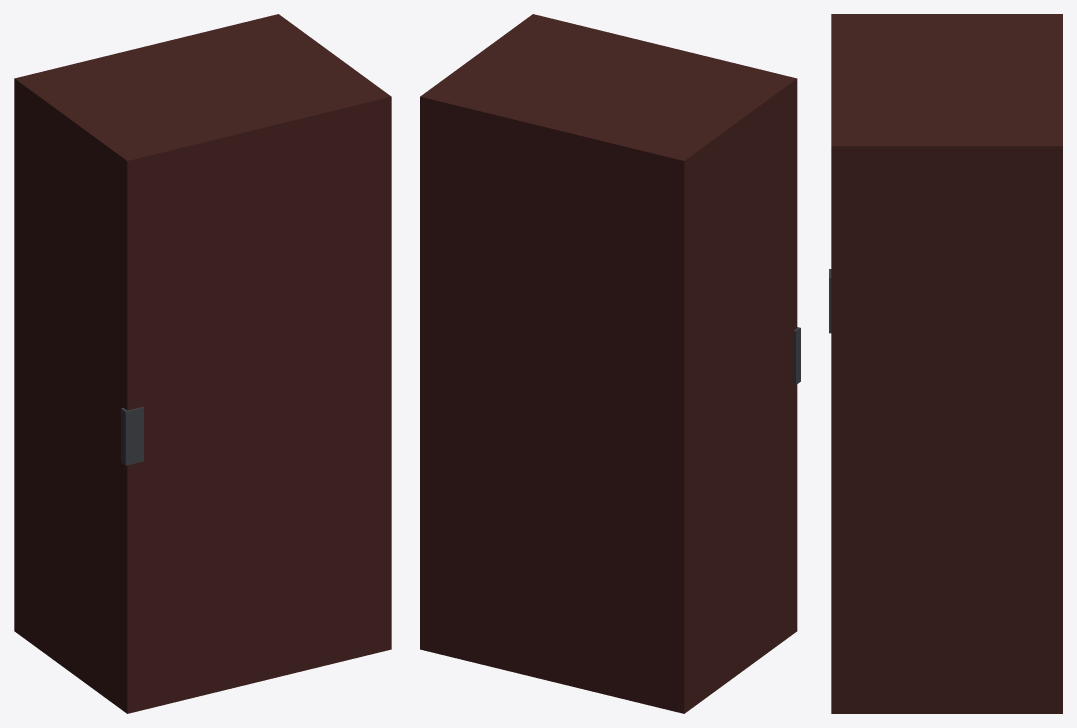
Rendered from dryingcabinetsmall_01_C.gltf.
3 views of the same model, side by side, from view 1: azimuth 30°, elevation 25°; view 2: azimuth 150°, elevation 25°; view 3: azimuth 270°, elevation 25° (orthographic). The views are drawn at different scales.
Parts seen in each view (by area): view 1: Doordryingcabinetsmall_01_C, dryingcabinetsmall_01_C; view 2: dryingcabinetsmall_01_C, Doordryingcabinetsmall_01_C; view 3: dryingcabinetsmall_01_C, Doordryingcabinetsmall_01_C.
Part boxes in pixels (x1,y1,x2,y2): Doordryingcabinetsmall_01_C: [120, 92, 391, 713]; dryingcabinetsmall_01_C: [14, 14, 384, 708]; dryingcabinetsmall_01_C: [420, 18, 790, 713]; Doordryingcabinetsmall_01_C: [527, 14, 800, 635]; dryingcabinetsmall_01_C: [843, 14, 1062, 713]; Doordryingcabinetsmall_01_C: [829, 14, 844, 713].
Bounding box in the file's own units: 1.01 × 2 × 0.7471.
Materials: 1 (1 with a texture image).
